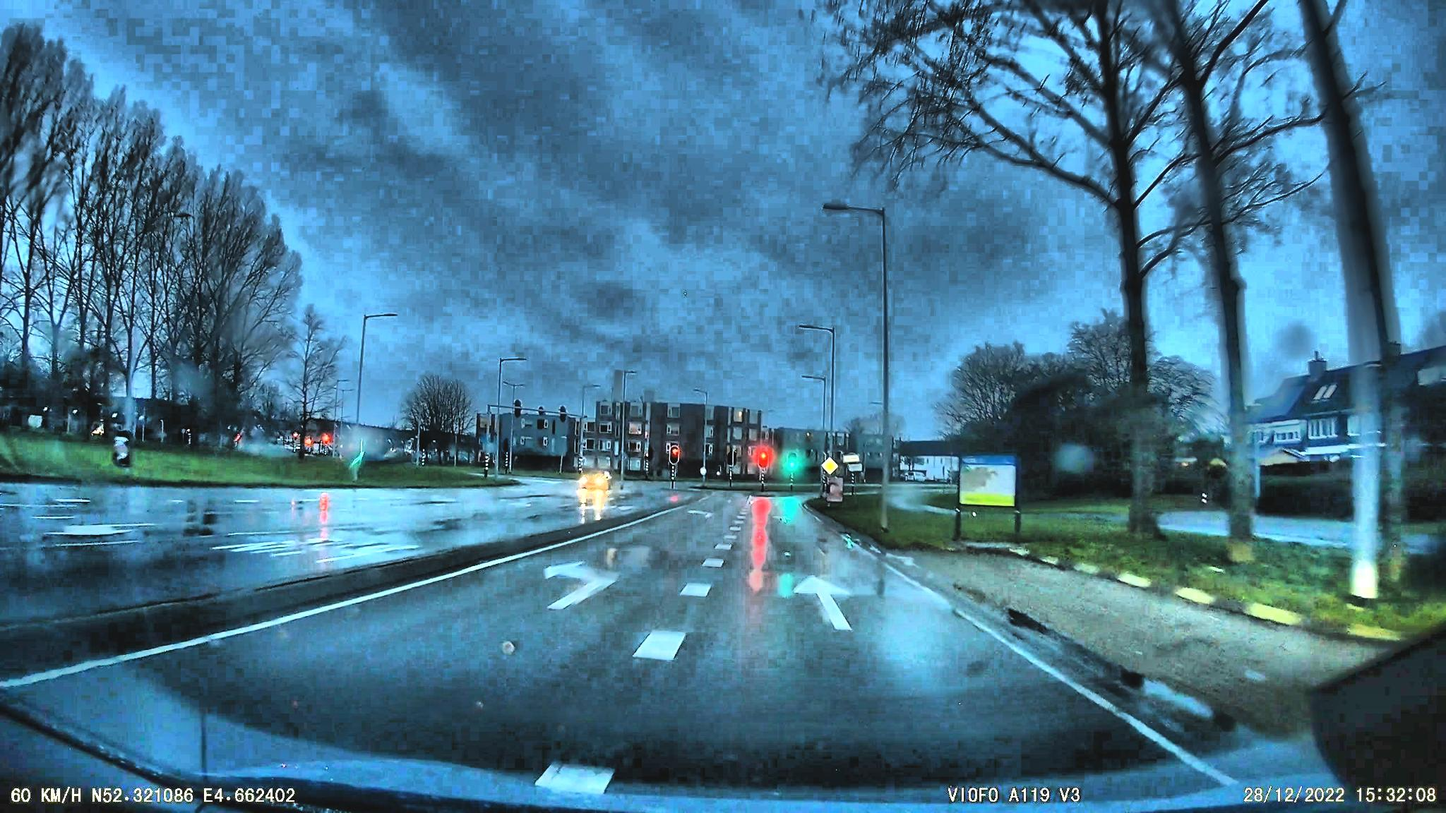Roads: (0, 494, 1409, 813)
